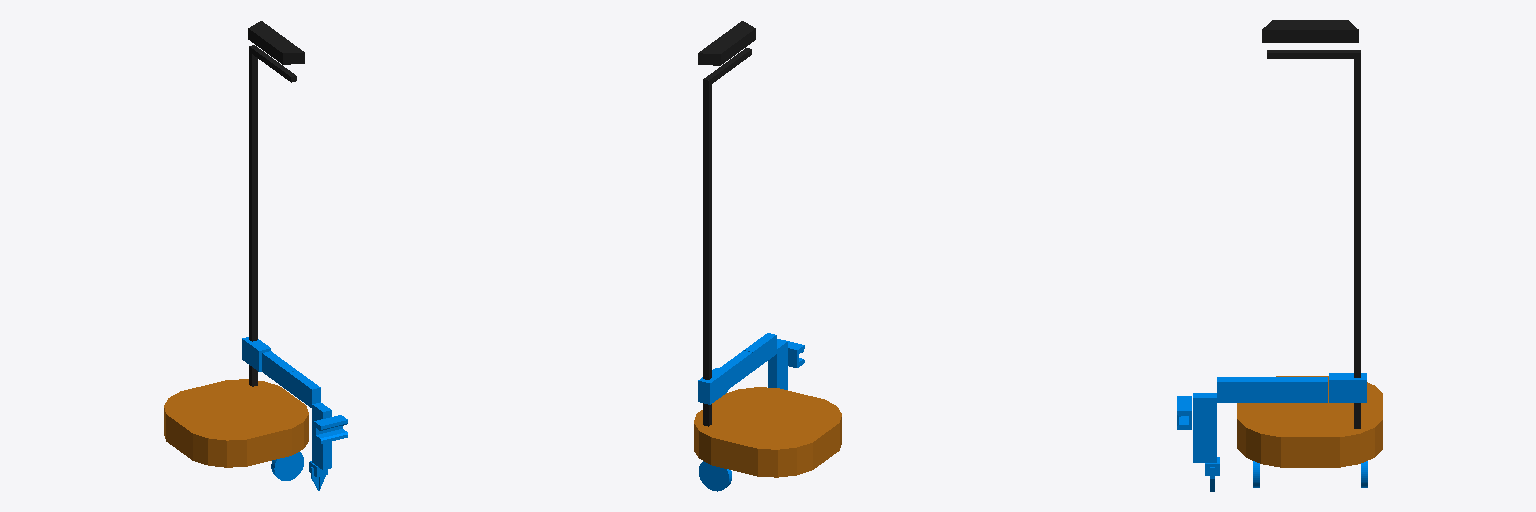
The robot description file, URDF, robot "arips_description":
<!--URDF generated by ONSHAPE BY PTC INC, 1.224-->
<robot name="arips_description">
    <link name="alu">
        <inertial>
            <mass value="0.0005768" />
            <origin xyz="0.14 0.111595 0.904595" rpy="0 -0 0" />
            <inertia ixx="8.68884e-05" ixy="0" ixz="0" iyy="8.48644e-05" iyz="6.53947e-06" izz="2.06249e-06" />
        </inertial>
        <visual>
            <origin xyz="0 0 0" rpy="0 -0 0" />
            <geometry>
                <mesh filename="package://arips_description/meshes/Alu.stl" scale="1 1 1" />
            </geometry>
            <material name="0.156863_0.156863_0.156863_0.000000_0.000000">
                <color rgba="0.156863 0.156863 0.156863 1" />
            </material>
        </visual>
    </link>
    <link name="base_link">
        <inertial>
            <mass value="0.0149878" />
            <origin xyz="-3.78648e-18 -4.2386e-18 0.159" rpy="0 -0 0" />
            <inertia ixx="0.000198722" ixy="0" ixz="0" iyy="0.000198722" iyz="0" izz="0.000374423" />
        </inertial>
        <visual>
            <origin xyz="0 0 0" rpy="0 -0 0" />
            <geometry>
                <mesh filename="package://arips_description/meshes/base_link.stl" scale="1 1 1" />
            </geometry>
            <material name="0.756863_0.462745_0.109804_0.000000_0.000000">
                <color rgba="0.756863 0.462745 0.109804 1" />
            </material>
        </visual>
    </link>
    <link name="claw_active">
        <inertial>
            <mass value="1.58301e-05" />
            <origin xyz="0.00246205 0.02665 -0.0231915" rpy="0 -0 0" />
            <inertia ixx="6.81076e-09" ixy="0" ixz="1.03041e-09" iyy="7.28577e-09" iyz="0" izz="8.54929e-10" />
        </inertial>
        <visual>
            <origin xyz="0.4312 0.02665 0.01965" rpy="0 -0 0" />
            <geometry>
                <mesh filename="package://arips_description/meshes/claw_active.stl" scale="1 1 1" />
            </geometry>
            <material name="0.000000_0.588235_1.000000_0.000000_0.000000">
                <color rgba="0 0.588235 1 1" />
            </material>
        </visual>
    </link>
    <link name="claw_base">
        <inertial>
            <mass value="7.24216e-05" />
            <origin xyz="0.0015 4.63131e-17 -0.0185" rpy="0 -0 0" />
            <inertia ixx="2.05376e-08" ixy="0" ixz="0" iyy="1.96296e-08" iyz="0" izz="2.36431e-08" />
        </inertial>
        <visual>
            <origin xyz="0.4162 4.59476e-17 -0.00135" rpy="0 -0 0" />
            <geometry>
                <mesh filename="package://arips_description/meshes/claw_base.stl" scale="1 1 1" />
            </geometry>
            <material name="0.000000_0.588235_1.000000_0.000000_0.000000">
                <color rgba="0 0.588235 1 1" />
            </material>
        </visual>
    </link>
    <link name="claw_passive">
        <inertial>
            <mass value="1.58301e-05" />
            <origin xyz="-0.00246205 0.02665 -0.0231915" rpy="0 -0 0" />
            <inertia ixx="6.81076e-09" ixy="0" ixz="-1.03041e-09" iyy="7.28577e-09" iyz="0" izz="8.54929e-10" />
        </inertial>
        <visual>
            <origin xyz="0.4012 0.02665 0.01965" rpy="0 -0 0" />
            <geometry>
                <mesh filename="package://arips_description/meshes/claw_passive.stl" scale="1 1 1" />
            </geometry>
            <material name="0.000000_0.588235_1.000000_0.000000_0.000000">
                <color rgba="0 0.588235 1 1" />
            </material>
        </visual>
    </link>
    <link name="door_gripper">
        <inertial>
            <mass value="0.00018254" />
            <origin xyz="3.46208e-18 -0.0245685 0.000696739" rpy="0 -0 0" />
            <inertia ixx="1.15808e-07" ixy="0" ixz="0" iyy="2.36171e-07" iyz="5.0911e-10" izz="1.84857e-07" />
        </inertial>
        <visual>
            <origin xyz="0 -0.005 0" rpy="0 -0 0" />
            <geometry>
                <mesh filename="package://arips_description/meshes/door_gripper.stl" scale="1 1 1" />
            </geometry>
            <material name="0.000000_0.588235_1.000000_0.000000_0.000000">
                <color rgba="0 0.588235 1 1" />
            </material>
        </visual>
    </link>
    <link name="kinect_mount">
        <inertial>
            <mass value="0.00065" />
            <origin xyz="0.0013 0.005 0.05" rpy="0 -0 0" />
            <inertia ixx="3.52083e-06" ixy="0" ixz="0" iyy="3.14422e-07" iyz="0" izz="3.66192e-06" />
        </inertial>
        <visual>
            <origin xyz="-0.14 0.005 -1.4114" rpy="0 -0 0" />
            <geometry>
                <mesh filename="package://arips_description/meshes/kinect_mount.stl" scale="1 1 1" />
            </geometry>
            <material name="0.156863_0.156863_0.156863_0.000000_0.000000">
                <color rgba="0.156863 0.156863 0.156863 1" />
            </material>
        </visual>
    </link>
    <link name="left_wheel">
        <inertial>
            <mass value="0.000190066" />
            <origin xyz="0.1 0.155 0.055" rpy="0 -0 0" />
            <inertia ixx="1.50073e-07" ixy="0" ixz="0" iyy="2.87475e-07" iyz="0" izz="1.50073e-07" />
        </inertial>
        <visual>
            <origin xyz="0 0 0" rpy="0 -0 0" />
            <geometry>
                <mesh filename="package://arips_description/meshes/left_wheel.stl" scale="1 1 1" />
            </geometry>
            <material name="0.000000_0.588235_1.000000_0.000000_0.000000">
                <color rgba="0 0.588235 1 1" />
            </material>
        </visual>
    </link>
    <link name="link_0">
        <inertial>
            <mass value="0.000359788" />
            <origin xyz="-0.02775 0.0035 0.037" rpy="0 -0 0" />
            <inertia ixx="2.22229e-07" ixy="0" ixz="0" iyy="5.30275e-07" iyz="0" izz="4.24138e-07" />
        </inertial>
        <visual>
            <origin xyz="0 0 -0.192" rpy="0 -0 0" />
            <geometry>
                <mesh filename="package://arips_description/meshes/link_0.stl" scale="1 1 1" />
            </geometry>
            <material name="0.000000_0.588235_1.000000_0.000000_0.000000">
                <color rgba="0 0.588235 1 1" />
            </material>
        </visual>
    </link>
    <link name="link_1">
        <inertial>
            <mass value="0.0003603" />
            <origin xyz="-0.0729 -6.73556e-19 -0.03355" rpy="0 -0 0" />
            <inertia ixx="1.65931e-07" ixy="0" ixz="0" iyy="9.80594e-07" iyz="0" izz="8.76155e-07" />
        </inertial>
        <visual>
            <origin xyz="0.0962 -6.73556e-19 -0.25755" rpy="0 -0 0" />
            <geometry>
                <mesh filename="package://arips_description/meshes/link_1.stl" scale="1 1 1" />
            </geometry>
            <material name="0.000000_0.588235_1.000000_0.000000_0.000000">
                <color rgba="0 0.588235 1 1" />
            </material>
        </visual>
    </link>
    <link name="link_2">
        <inertial>
            <mass value="0.000317356" />
            <origin xyz="-0.0629 -6.43626e-19 -0.03355" rpy="0 -0 0" />
            <inertia ixx="1.46153e-07" ixy="0" ixz="0" iyy="6.96789e-07" iyz="0" izz="6.04797e-07" />
        </inertial>
        <visual>
            <origin xyz="0.2662 -6.73556e-19 -0.25755" rpy="0 -0 0" />
            <geometry>
                <mesh filename="package://arips_description/meshes/link_2.stl" scale="1 1 1" />
            </geometry>
            <material name="0.000000_0.588235_1.000000_0.000000_0.000000">
                <color rgba="0 0.588235 1 1" />
            </material>
        </visual>
    </link>
    <link name="link_3">
        <inertial>
            <mass value="0.000453296" />
            <origin xyz="0 -0.02255 -0.1025" rpy="0 -0 0" />
            <inertia ixx="1.76785e-06" ixy="0" ixz="0" iyy="1.62616e-06" iyz="0" izz="2.19048e-07" />
        </inertial>
        <visual>
            <origin xyz="0.4162 4.57793e-17 -0.20635" rpy="0 -0 0" />
            <geometry>
                <mesh filename="package://arips_description/meshes/link_3.stl" scale="1 1 1" />
            </geometry>
            <material name="0.000000_0.588235_1.000000_0.000000_0.000000">
                <color rgba="0 0.588235 1 1" />
            </material>
        </visual>
    </link>
    <link name="right_wheel">
        <inertial>
            <mass value="0.000190066" />
            <origin xyz="0.1 -0.155 0.055" rpy="0 -0 0" />
            <inertia ixx="1.50073e-07" ixy="0" ixz="0" iyy="2.87475e-07" iyz="0" izz="1.50073e-07" />
        </inertial>
        <visual>
            <origin xyz="0 0 0" rpy="0 -0 0" />
            <geometry>
                <mesh filename="package://arips_description/meshes/right_wheel.stl" scale="1 1 1" />
            </geometry>
            <material name="0.000000_0.588235_1.000000_0.000000_0.000000">
                <color rgba="0 0.588235 1 1" />
            </material>
        </visual>
    </link>
    <link name="root" />
    <joint name="fastened_1" type="fixed">
        <origin xyz="8.07687e-15 4.44089e-16 -0.205" rpy="-2.97798e-16 3.86345e-16 -2.15106e-16" />
        <axis xyz="0 0 -1" />
        <parent link="link_3" />
        <child link="claw_base" />
    </joint>
    <joint name="fixed_node_to_root_joint" type="fixed">
        <origin xyz="0 0 0" rpy="0 -0 0" />
        <axis xyz="0 0 1" />
        <parent link="root" />
        <child link="base_link" />
    </joint>
    <joint name="group_1_fastened_joint" type="fixed">
        <origin xyz="0 0 0" rpy="0 -0 0" />
        <axis xyz="-0 -0 -1" />
        <parent link="base_link" />
        <child link="left_wheel" />
    </joint>
    <joint name="group_1_fastened_joint_1" type="fixed">
        <origin xyz="0 0 0" rpy="0 -0 0" />
        <axis xyz="-0 -0 -1" />
        <parent link="left_wheel" />
        <child link="right_wheel" />
    </joint>
    <joint name="group_1_fastened_joint_2" type="fixed">
        <origin xyz="0 0 0" rpy="0 -0 0" />
        <axis xyz="-0 -0 -1" />
        <parent link="right_wheel" />
        <child link="alu" />
    </joint>
    <joint name="joint_2" type="revolute">
        <origin xyz="-0.0962 6.21725e-15 0.06555" rpy="6.36689e-19 4.01798e-18 -6.4504e-14" />
        <axis xyz="0 0 1" />
        <parent link="link_0" />
        <child link="link_1" />
        <limit effort="1" velocity="1" lower="-2.26893" upper="2.26893" />
    </joint>
    <joint name="joint_3" type="revolute">
        <origin xyz="-0.17 -9.35363e-15 5.55112e-17" rpy="-2.16034e-16 -7.15908e-16 6.50868e-14" />
        <axis xyz="0 0 1" />
        <parent link="link_1" />
        <child link="link_2" />
        <limit effort="1" velocity="1" lower="-2.44346" upper="2.44346" />
    </joint>
    <joint name="joint_4" type="revolute">
        <origin xyz="-0.15 -2.77556e-17 -0.0512" rpy="-3.58745e-16 4.30185e-17 -1.5708" />
        <axis xyz="-0 -0 -1" />
        <parent link="link_2" />
        <child link="link_3" />
        <limit effort="1" velocity="1" lower="-3.14159" upper="3.14159" />
    </joint>
    <joint name="joint_claw_active" type="revolute">
        <origin xyz="-0.015 -0.02665 -0.021" rpy="-3.63081e-18 -6.73064e-18 1.73472e-16" />
        <axis xyz="-0 1 -0" />
        <parent link="claw_base" />
        <child link="claw_active" />
        <limit effort="1" velocity="1" lower="0" upper="1.0472" />
    </joint>
    <joint name="joint_claw_passive" type="continuous">
        <origin xyz="0.015 -0.02665 -0.021" rpy="-2.03853e-15 -1.73223e-16 -1.06785e-14" />
        <axis xyz="-0 1 -0" />
        <parent link="claw_base" />
        <child link="claw_passive" />
    </joint>
    <joint name="joint_door_gripper" type="continuous">
        <origin xyz="7.93809e-15 -0.0537 -0.0548" rpy="-8.53028e-19 -2.71969e-18 -2.63678e-16" />
        <axis xyz="0 -1 0" />
        <parent link="link_3" />
        <child link="door_gripper" />
    </joint>
    <joint name="joint_slider" type="prismatic">
        <origin xyz="0.14 0.135 0.292" rpy="0 -0 1.5708" />
        <axis xyz="0 0 1" />
        <parent link="base_link" />
        <child link="link_0" />
        <limit effort="1" velocity="1" lower="0" upper="0.871" />
    </joint>
    <joint name="kinect_joint" type="revolute">
        <origin xyz="0.14 -0.005 1.4114" rpy="1.91584e-47 -1.57304e-94 1.64215e-47" />
        <axis xyz="0 -1 0" />
        <parent link="base_link" />
        <child link="kinect_mount" />
        <limit effort="1" velocity="1" lower="-1.5708" upper="0.523599" />
    </joint>
</robot>

--- What the picture shows (computed from the rendered views, not written in the file) ---
Views: 3 orthographic renders of the robot side by side, from view 1: azimuth 30°, elevation 25°; view 2: azimuth 150°, elevation 25°; view 3: azimuth 270°, elevation 25°.
Robot: arips_description — 14 links, 13 joints (5 revolute, 2 continuous, 1 prismatic, 5 fixed); root link root; default pose: every joint at zero.
Links seen in each view (by area): view 1: base_link, alu, kinect_mount, link_3, link_2, door_gripper, link_1, right_wheel, link_0; view 2: base_link, alu, kinect_mount, link_3, link_0, left_wheel, link_1, link_2; view 3: base_link, alu, kinect_mount, link_3, link_1, link_2, link_0.
Link boxes in pixels (bbox=[...]): base_link: bbox=[164, 379, 308, 467]; alu: bbox=[249, 45, 296, 386]; kinect_mount: bbox=[248, 21, 304, 64]; link_3: bbox=[312, 402, 331, 469]; link_2: bbox=[289, 371, 320, 407]; door_gripper: bbox=[314, 415, 347, 443]; link_1: bbox=[262, 351, 296, 390]; right_wheel: bbox=[271, 452, 303, 480]; link_0: bbox=[242, 337, 270, 371]; base_link: bbox=[694, 387, 841, 477]; alu: bbox=[703, 48, 751, 426]; kinect_mount: bbox=[698, 21, 755, 65]; link_3: bbox=[768, 340, 787, 389]; link_0: bbox=[698, 368, 727, 404]; left_wheel: bbox=[699, 461, 731, 491]; link_1: bbox=[719, 350, 752, 389]; link_2: bbox=[744, 333, 776, 370]; base_link: bbox=[1237, 376, 1382, 467]; alu: bbox=[1267, 50, 1360, 428]; kinect_mount: bbox=[1262, 20, 1358, 42]; link_3: bbox=[1193, 393, 1216, 462]; link_1: bbox=[1269, 377, 1327, 402]; link_2: bbox=[1217, 377, 1268, 402]; link_0: bbox=[1329, 373, 1366, 402].
Size in the robot's own frame: 0.42 by 0.5949 by 1.48 metres.
Meshes: 13 distinct files referenced, 13 mesh visuals loaded (13 binary STL).
